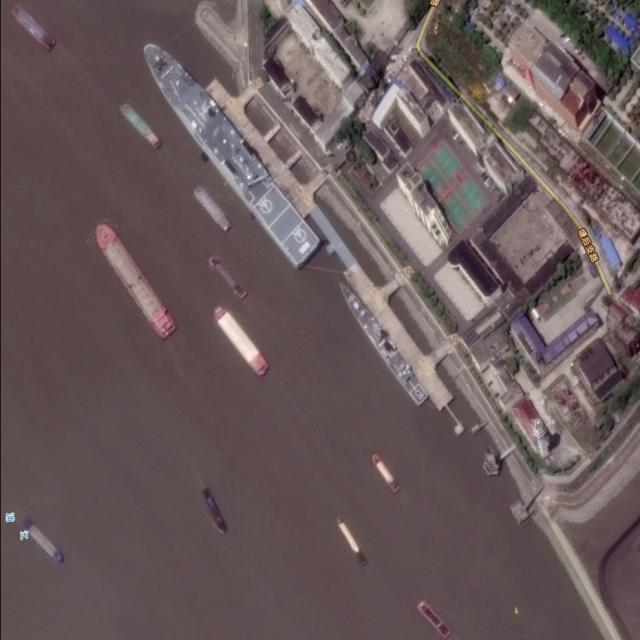Cargo: (87, 220, 178, 341), (206, 298, 273, 381), (10, 1, 59, 54), (117, 99, 165, 151), (189, 183, 236, 234), (204, 253, 251, 303), (21, 516, 66, 566), (332, 516, 370, 567), (412, 597, 455, 639), (198, 487, 232, 536), (367, 451, 403, 493)
Frigate: (331, 275, 430, 407)
Landing: (122, 33, 328, 268)
